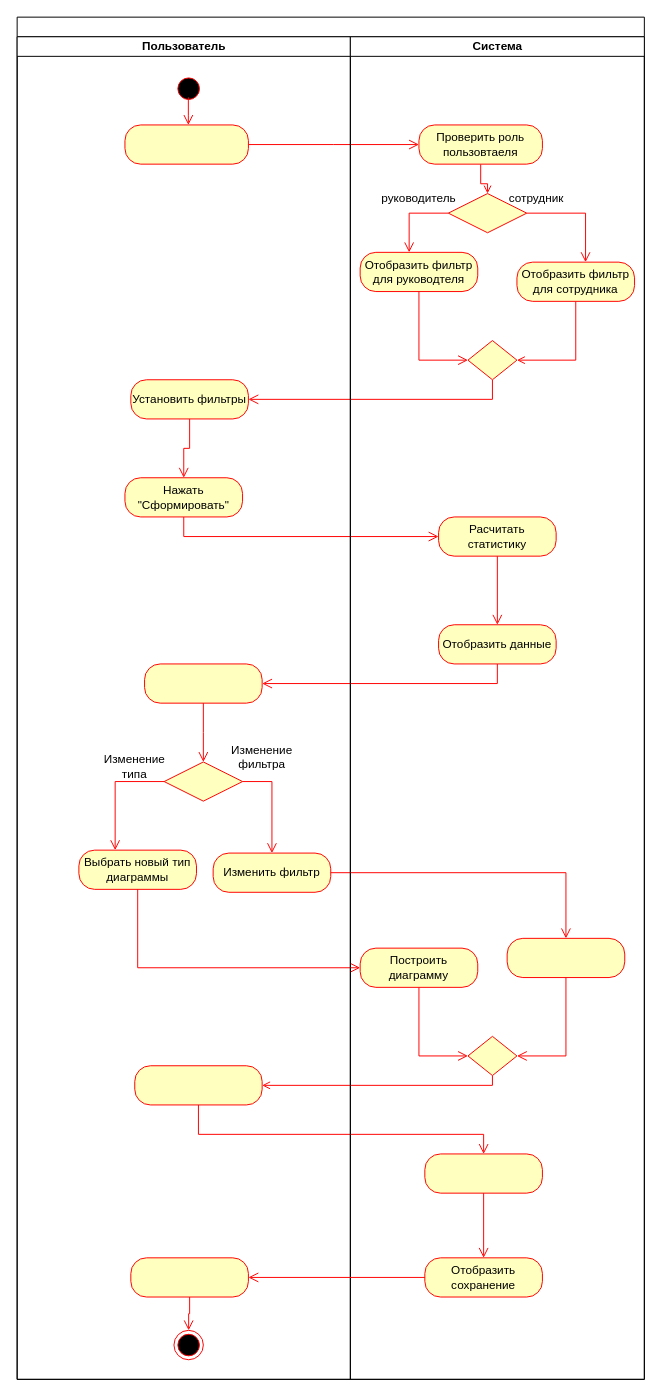
Image size: 662x1397. Some labels were removed from this diagram. The centre of each missing label's shape, as x and y in pixels:
"Выбрать действие" belongs at (x=203, y=683).
"Выбрать сохранение в файл" belongs at (x=198, y=1085).
"Выйти из раздела" belongs at (x=189, y=1277).
"Обновить диграмму" belongs at (x=565, y=957).
"Перейти к сатистике" belongs at (x=186, y=144).
"Сохранить данные в файл" belongs at (x=483, y=1173).
